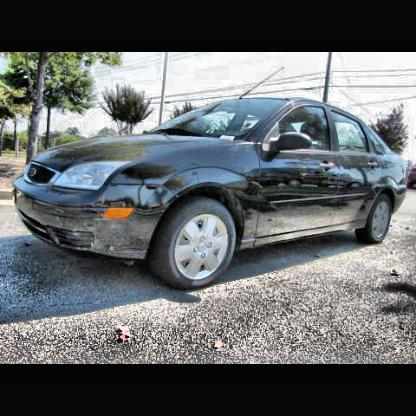Ford Focus Sedan 2007: (15, 97, 411, 291)
